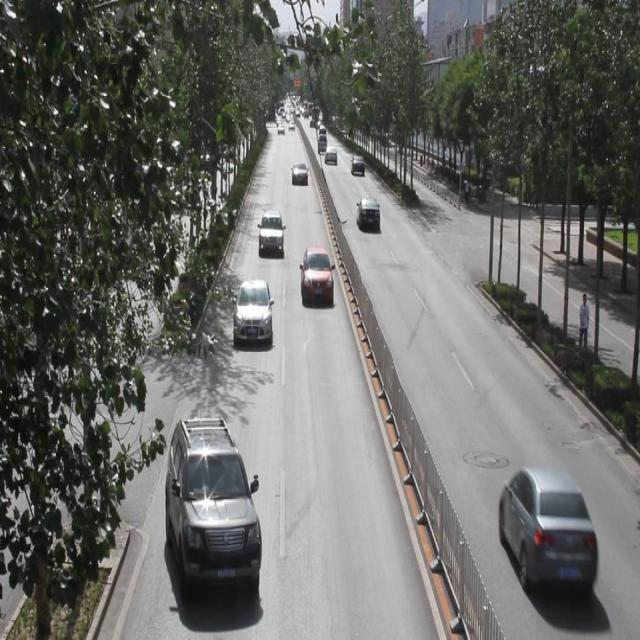car: (165, 417, 260, 588), (498, 467, 597, 589), (234, 278, 273, 342), (299, 248, 334, 304), (258, 208, 284, 252), (356, 196, 380, 231), (291, 161, 307, 184), (350, 153, 364, 174), (324, 144, 336, 164)
truck: (317, 132, 327, 152)
